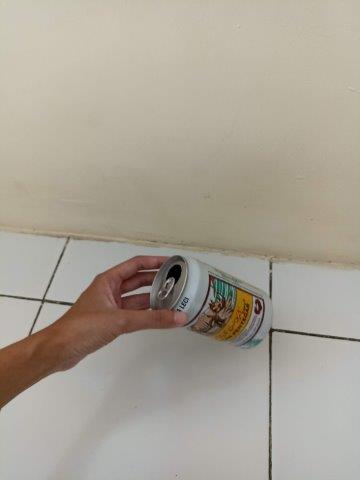kaleng: (148, 257, 274, 353)
